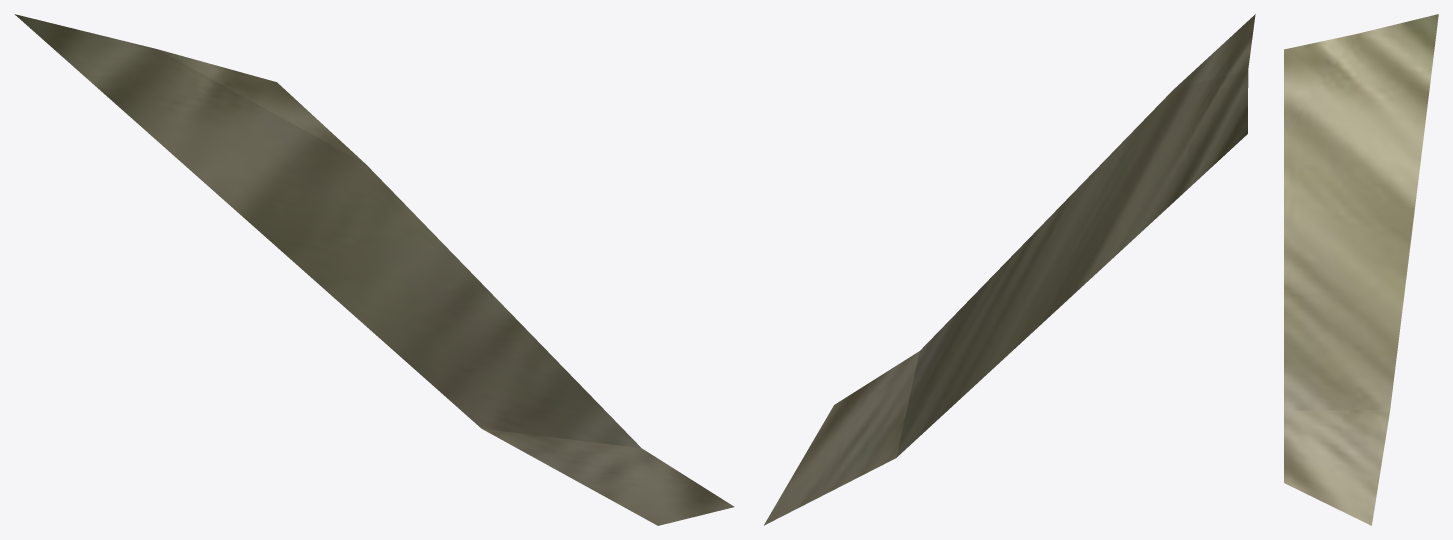
The picture shows the model from 3 angles, left to right: view 1: azimuth 30°, elevation 25°; view 2: azimuth 150°, elevation 25°; view 3: azimuth 270°, elevation 25°; orthographic projection. The views are drawn at different scales.
Bounding box in the file's own units: 1.64 × 1.64 × 0.6588.
1 material, 1 textured.
